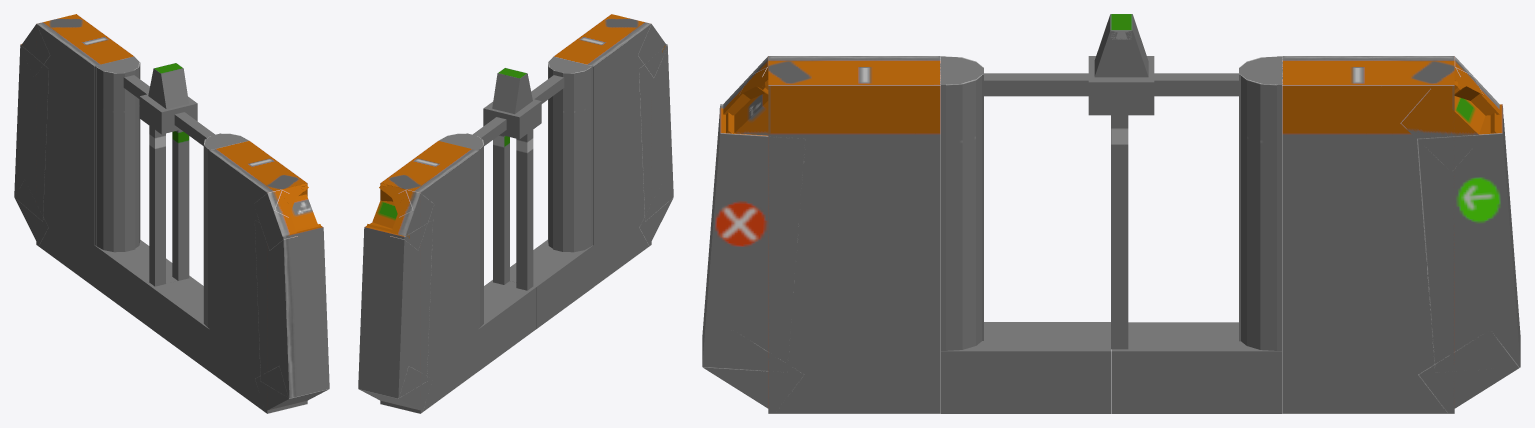
File: gate_block_left.obj
3 renders of one model, left to right at view 1: azimuth 30°, elevation 25°; view 2: azimuth 150°, elevation 25°; view 3: azimuth 270°, elevation 25°, orthographic. The views are drawn at different scales.
Visible parts, largest first — view 1: cube; view 2: cube; view 3: cube.
Boxes of the visible parts, x1,y1,x2,y2 form: cube: (14, 14, 329, 413); cube: (358, 14, 673, 413); cube: (702, 14, 1520, 413).
Bounding box in the file's own units: 0.2505 × 1.51 × 2.96.
1 material, 1 textured.
